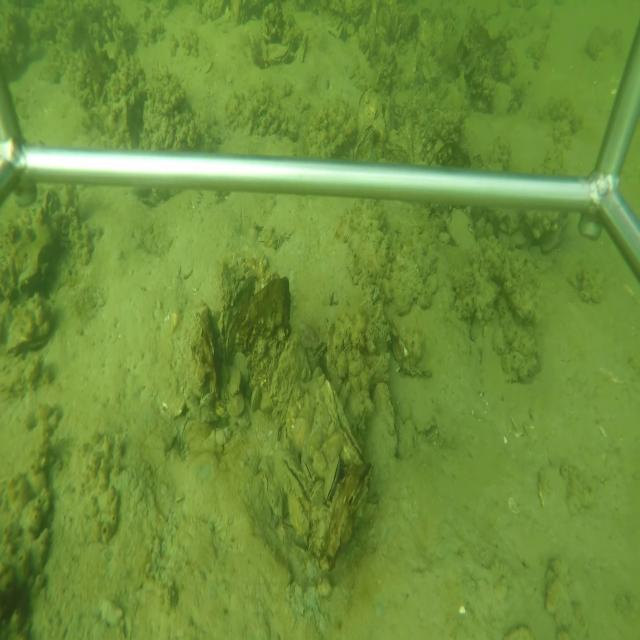Oyster-Closed: (322, 378, 364, 462), (374, 380, 400, 456), (5, 320, 52, 358), (354, 121, 381, 159), (323, 455, 341, 506), (265, 39, 292, 65), (250, 384, 262, 412)
Oyster-Indeterminate: (267, 331, 305, 419), (447, 207, 479, 255)
Oyster-Open: (272, 451, 310, 503), (310, 338, 331, 358)
